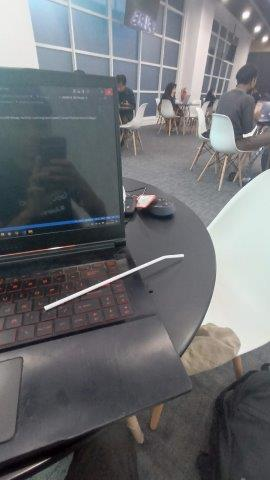sedotan: (44, 254, 184, 310)
